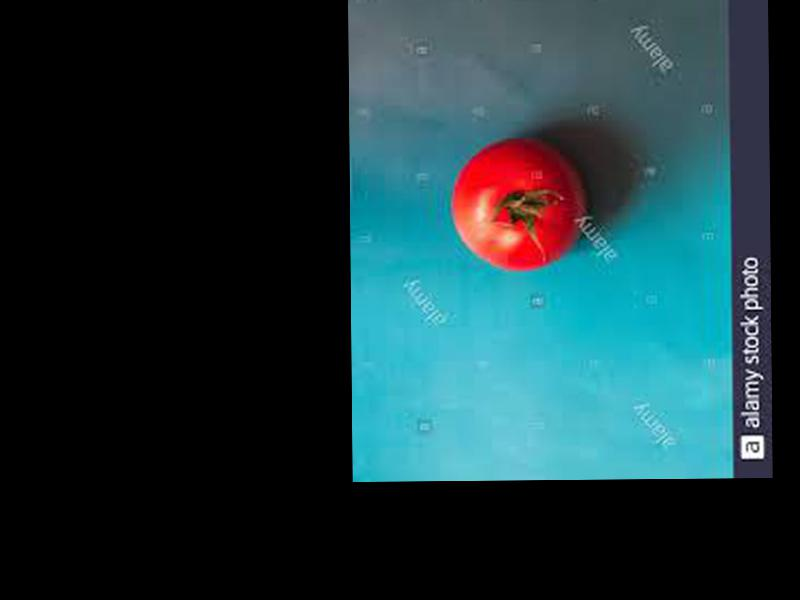Tomato: (450, 139, 587, 271)
